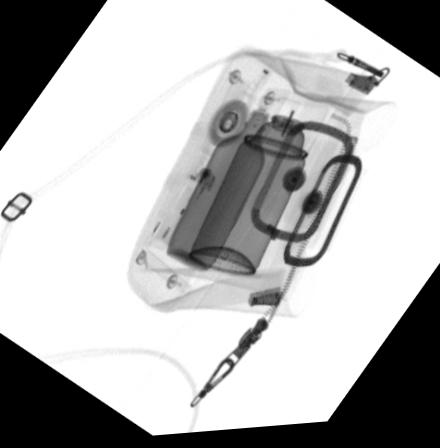Lighter: (153, 167, 217, 252)
Sprayer: (186, 88, 330, 280)
